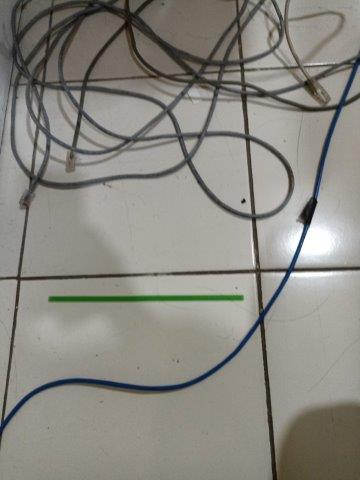sedotan: (48, 294, 244, 302)
